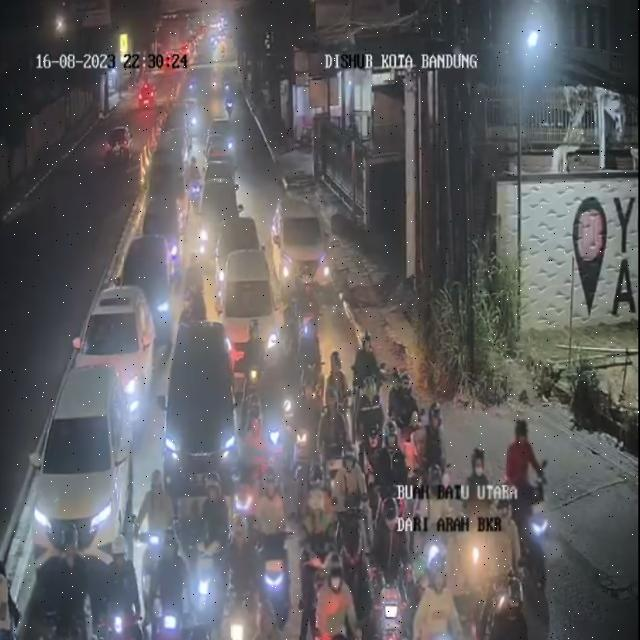cars: (26, 358, 130, 566), (160, 317, 240, 495), (76, 280, 154, 435), (222, 209, 288, 381), (19, 544, 97, 640), (270, 186, 331, 296), (124, 232, 177, 338), (146, 189, 186, 285), (407, 591, 476, 640), (200, 163, 238, 228), (203, 109, 233, 171)
motorcycle: (507, 412, 559, 590), (183, 464, 229, 633), (256, 466, 291, 631), (414, 457, 460, 572), (374, 415, 409, 557), (461, 447, 496, 581), (298, 484, 338, 598), (418, 391, 453, 516), (153, 530, 191, 638), (318, 554, 362, 638), (140, 462, 174, 568), (231, 520, 261, 638), (336, 448, 372, 544), (294, 306, 325, 412), (322, 391, 354, 485), (490, 491, 520, 588), (492, 566, 529, 640), (352, 329, 378, 427), (296, 268, 322, 355), (181, 268, 213, 335), (238, 452, 261, 538), (387, 368, 415, 438), (323, 346, 345, 422), (188, 211, 208, 276), (185, 155, 201, 213)
